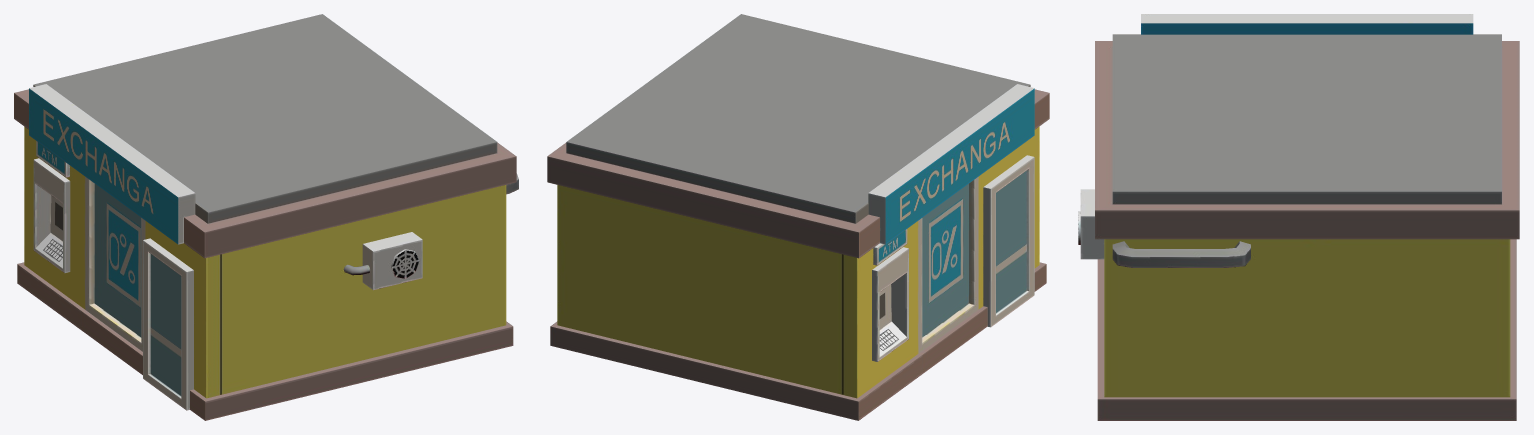
Rendered from Exchange.glb.
3 renders of one model, left to right at view 1: azimuth 30°, elevation 25°; view 2: azimuth 150°, elevation 25°; view 3: azimuth 270°, elevation 25°, orthographic. The views are drawn at different scales.
Parts seen in each view (by area): view 1: Object004; view 2: Object004; view 3: Object004.
Boxes of the visible parts, x1=… form: Object004: x1=14, y1=14, x2=518, y2=420; Object004: x1=547, y1=14, x2=1049, y2=420; Object004: x1=1078, y1=14, x2=1519, y2=420.
Size of the model in its own units: 2.73 by 1.65 by 2.8.
1 material, 1 textured.
